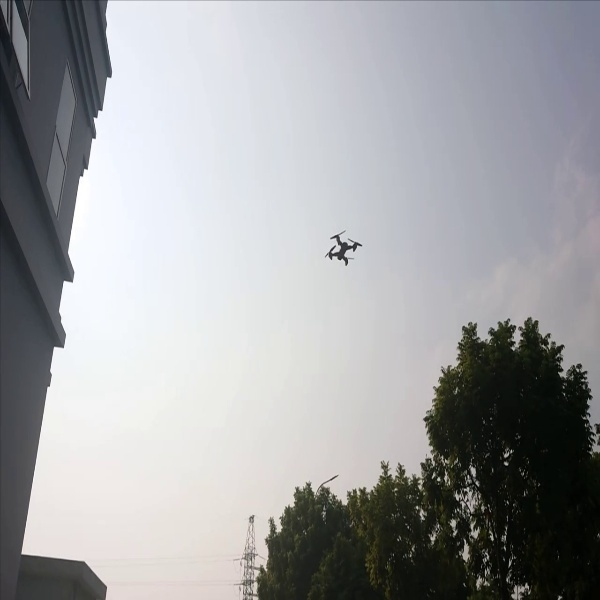drone: (320, 227, 370, 276)
